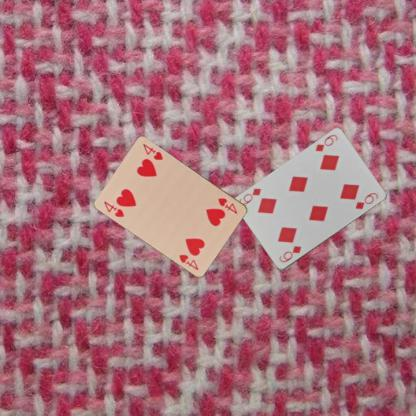4h: (101, 198, 125, 219), (216, 196, 238, 216)
6d: (276, 243, 302, 264), (312, 132, 338, 153)
